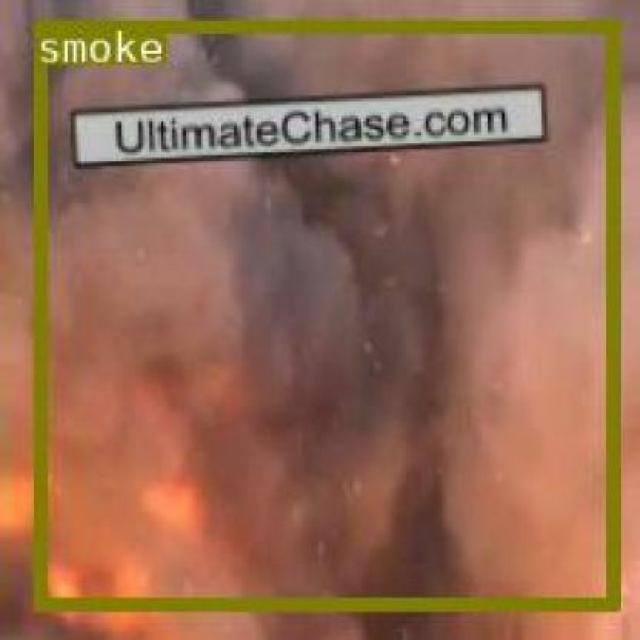Smoke: (33, 19, 616, 607)
